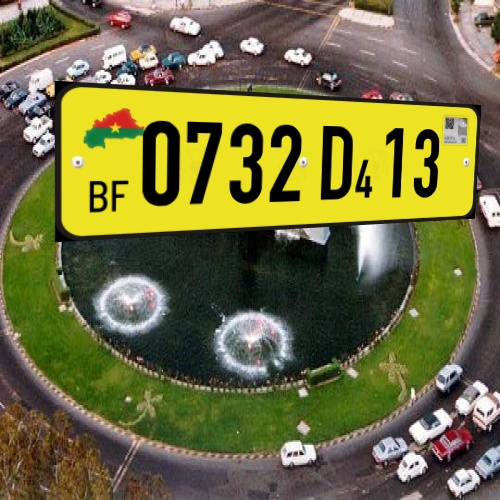plate: (43, 76, 492, 243)
